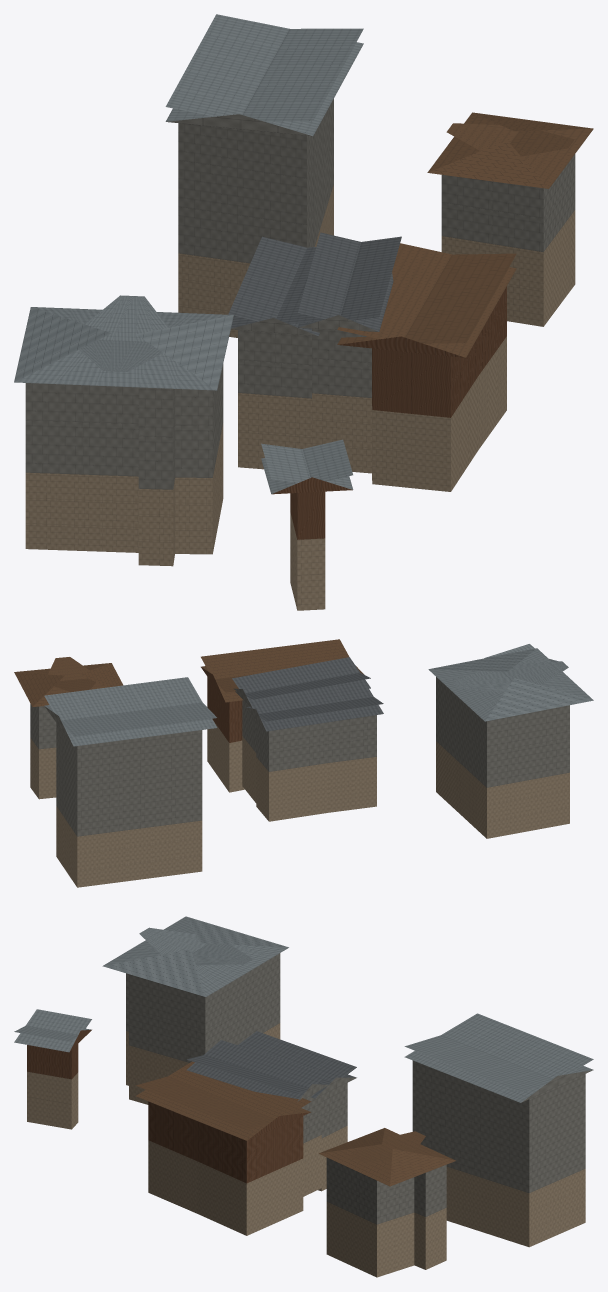
The model's file is bld_c17_28_380.gltf.
3 views of the same model, one above another, from view 1: azimuth 30°, elevation 25°; view 2: azimuth 150°, elevation 25°; view 3: azimuth 270°, elevation 25° (orthographic). The views are drawn at different scales.
Parts seen in each view (by area): view 1: bld_c17_28_380; view 2: bld_c17_28_380; view 3: bld_c17_28_380.
Boxes of the visible parts, x1,y1,x2,y2 form: bld_c17_28_380: (14, 14, 593, 610); bld_c17_28_380: (14, 639, 593, 887); bld_c17_28_380: (14, 916, 593, 1277).
Bounding box in the file's own units: 50.59 × 15.4 × 49.6.
Materials: 8 (8 with a texture image).
